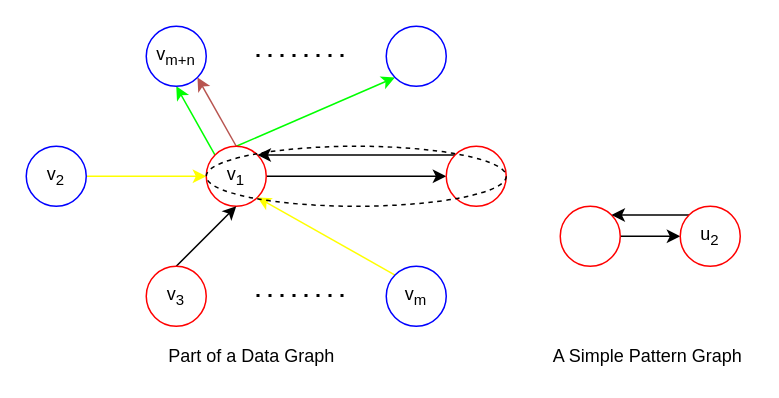
This 779x398 diagram has some shape labels left out. Each missing label, with the box of its shape:
u 1: (559, 205, 620, 266)
v m+1: (445, 145, 506, 206)
v m+2: (385, 25, 446, 86)
